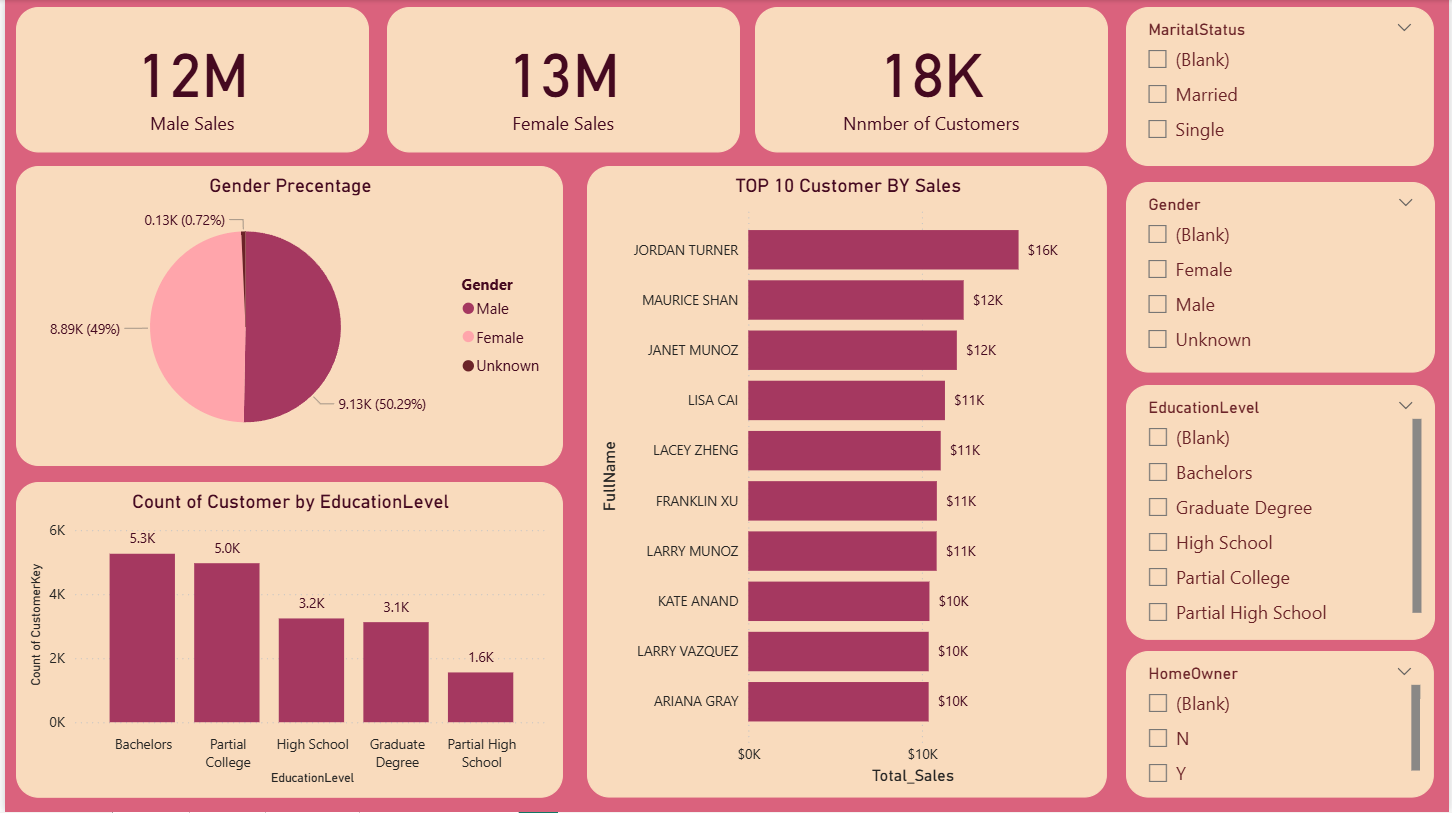

What the dashboard file says about the page in this screenshot:
{"tool":"powerbi","page":{"name":"Customer","canvas":[1280,720],"ordinal":2},"visuals":[{"type":"pieChart","title":"Gender Precentage","fields":{"Category":["Customers.Gender"],"Y":["CountNonNull(Customers.Gender)"]},"box":[10,147.5,485,266.2],"z":0},{"type":"clusteredBarChart","title":"TOP 10 Customer BY Sales","fields":{"Category":["Customers.FullName"],"Y":["Customers.Total_Sales"]},"box":[516.2,147.5,461.2,560],"z":1000},{"type":"card","fields":{"Values":["Customers.Nnmber of Customers"]},"box":[665,6.2,312.5,128.8],"z":2000},{"type":"clusteredColumnChart","title":"Count of Customer by EducationLevel","fields":{"Category":["Customers.EducationLevel"],"Y":["CountNonNull(Customers.CustomerKey)"]},"box":[10,427.5,485,280],"z":3000},{"type":"card","fields":{"Values":["Customers.Male Sales"]},"box":[10,6.2,312.5,128.8],"z":4000},{"type":"card","fields":{"Values":["Customers.Number Of Female"]},"box":[338.8,6.2,312.5,128.8],"z":5000},{"type":"slicer","fields":{"Values":["Customers.MaritalStatus"]},"box":[993.8,6.2,272.5,141.2],"z":6000},{"type":"slicer","fields":{"Values":["Customers.Gender"]},"box":[993.8,161.2,273.8,168.8],"z":7000},{"type":"slicer","fields":{"Values":["Customers.EducationLevel"]},"box":[993.8,341.2,273.8,226.2],"z":8000},{"type":"slicer","fields":{"Values":["Customers.HomeOwner"]},"box":[993.8,577.5,272.5,130],"z":9000}]}

Visuals, with their boxes in screenshot pixels (x1, y1, x2, y2), scaled from the page's 1280x720 canvas onto the 1452x813 screenshot:
"Gender Precentage" pieChart: {"x1": 11, "y1": 167, "x2": 562, "y2": 467}
"TOP 10 Customer BY Sales" clusteredBarChart: {"x1": 586, "y1": 167, "x2": 1109, "y2": 799}
card - Customers.Nnmber of Customers: {"x1": 754, "y1": 7, "x2": 1109, "y2": 152}
"Count of Customer by EducationLevel" clusteredColumnChart: {"x1": 11, "y1": 483, "x2": 562, "y2": 799}
card - Customers.Male Sales: {"x1": 11, "y1": 7, "x2": 366, "y2": 152}
card - Customers.Number Of Female: {"x1": 384, "y1": 7, "x2": 739, "y2": 152}
slicer - Customers.MaritalStatus: {"x1": 1127, "y1": 7, "x2": 1436, "y2": 166}
slicer - Customers.Gender: {"x1": 1127, "y1": 182, "x2": 1438, "y2": 373}
slicer - Customers.EducationLevel: {"x1": 1127, "y1": 385, "x2": 1438, "y2": 641}
slicer - Customers.HomeOwner: {"x1": 1127, "y1": 652, "x2": 1436, "y2": 799}
